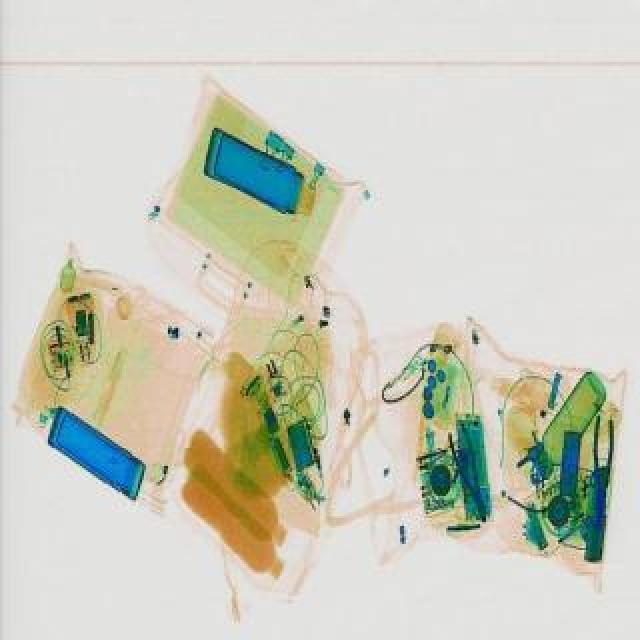wrench: (442, 418, 498, 518), (586, 412, 614, 526)
